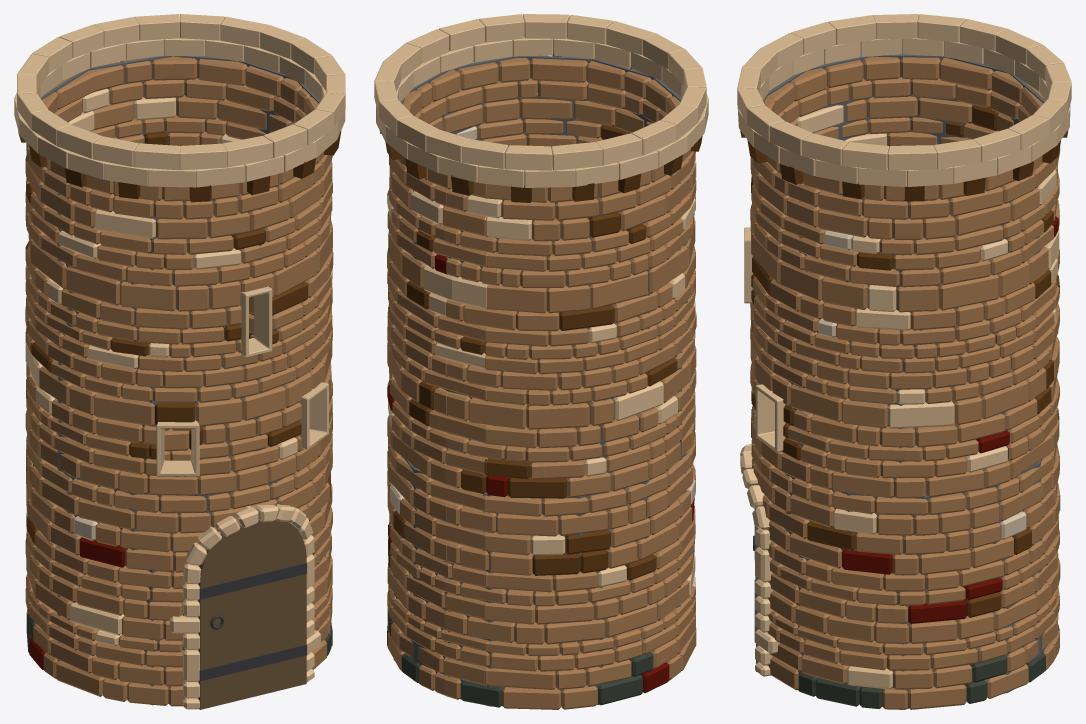
File: tower-base-with-doorway-recolour.glb
The picture shows the model from 3 angles, left to right: view 1: azimuth 30°, elevation 25°; view 2: azimuth 150°, elevation 25°; view 3: azimuth 270°, elevation 25°; orthographic projection.
Parts seen in each view (by area): view 1: main-wall.207, main-wall.004, main-wall, top-section-2, door-lower, top-section-1, doorframe, door-upper, upper-slit-frame, left-slit-frame, right-slit-frame, grout-wall.002 (+4 smaller); view 2: main-wall.207, main-wall, main-wall.004, top-section-2, top-section-1, grout-wall.002, grout-wall; view 3: main-wall.207, main-wall, main-wall.004, top-section-2, top-section-1, doorframe, grout-wall.002, right-slit-frame, grout-wall, upper-slit-frame.
Part boxes in pixels (<box>): main-wall.207: <box>25,220,333,495</box>; main-wall.004: <box>25,56,332,286</box>; main-wall: <box>25,428,332,706</box>; top-section-2: <box>17,14,345,170</box>; door-lower: <box>197,558,306,709</box>; top-section-1: <box>14,38,345,187</box>; doorframe: <box>169,504,320,709</box>; door-upper: <box>199,520,306,584</box>; upper-slit-frame: <box>240,286,272,357</box>; left-slit-frame: <box>156,420,199,476</box>; right-slit-frame: <box>299,382,328,449</box>; grout-wall.002: <box>40,55,320,285</box>; main-wall.207: <box>387,218,696,498</box>; main-wall: <box>387,432,696,709</box>; main-wall.004: <box>387,57,696,287</box>; top-section-2: <box>374,14,706,170</box>; top-section-1: <box>376,37,708,187</box>; grout-wall.002: <box>400,55,681,283</box>; grout-wall: <box>393,452,686,706</box>; main-wall.207: <box>750,222,1059,498</box>; main-wall: <box>751,439,1060,709</box>; main-wall.004: <box>750,57,1060,287</box>; top-section-2: <box>737,14,1071,170</box>; top-section-1: <box>737,37,1070,186</box>; doorframe: <box>740,444,779,676</box>; grout-wall.002: <box>763,54,1045,286</box>; right-slit-frame: <box>755,384,785,452</box>; grout-wall: <box>755,446,1050,709</box>; upper-slit-frame: <box>744,227,753,303</box>.
Size of the model in its own units: 2.16 by 4.01 by 2.16.
